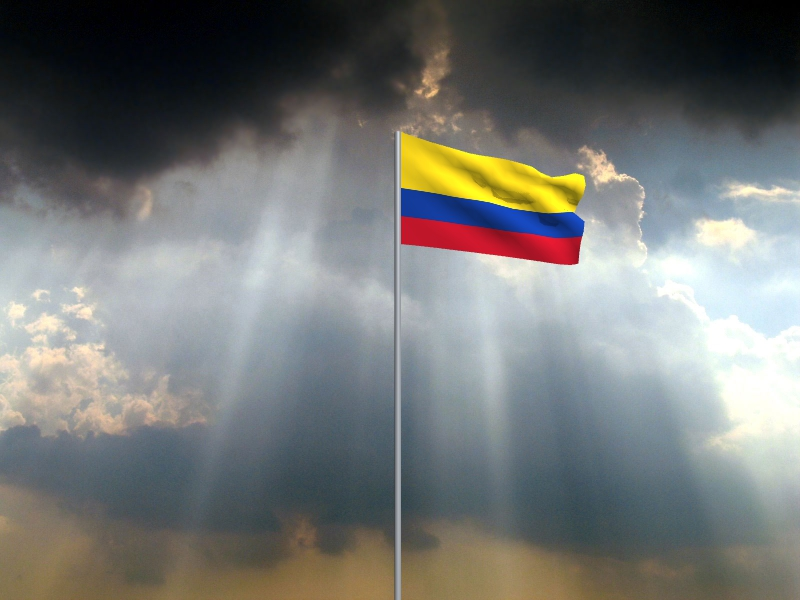co: (402, 133, 588, 267)
